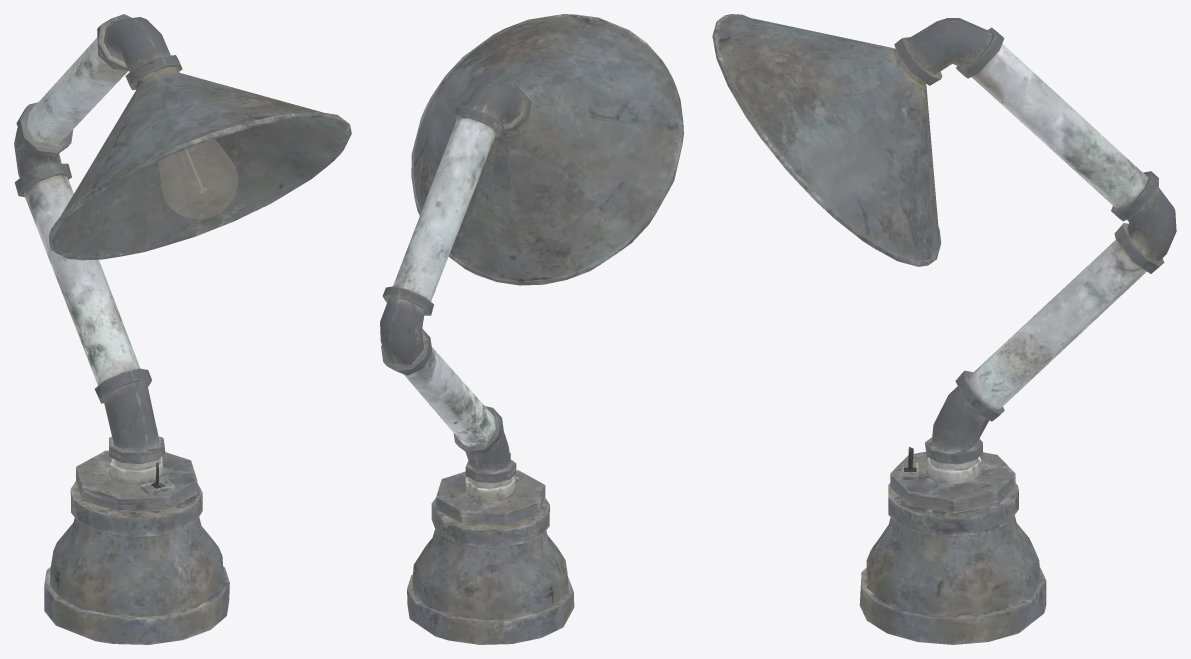
File: industrial_pipe_lamp.glb
3 views of the same model, side by side, from view 1: azimuth 30°, elevation 25°; view 2: azimuth 150°, elevation 25°; view 3: azimuth 270°, elevation 25° (orthographic). The views are drawn at different scales.
Visible parts, largest first — view 1: industrial_pipe_lamp, industrial_pipe_lamp_bulb; view 2: industrial_pipe_lamp; view 3: industrial_pipe_lamp.
Part boxes in pixels (x1=…): industrial_pipe_lamp: x1=14, y1=14, x2=351, y2=644; industrial_pipe_lamp_bulb: x1=158, y1=139, x2=238, y2=218; industrial_pipe_lamp: x1=380, y1=14, x2=683, y2=644; industrial_pipe_lamp: x1=712, y1=14, x2=1176, y2=644.
Bounding box in the file's own units: 0.1826 × 0.3633 × 0.2617.
Materials: 2 (2 with a texture image).
